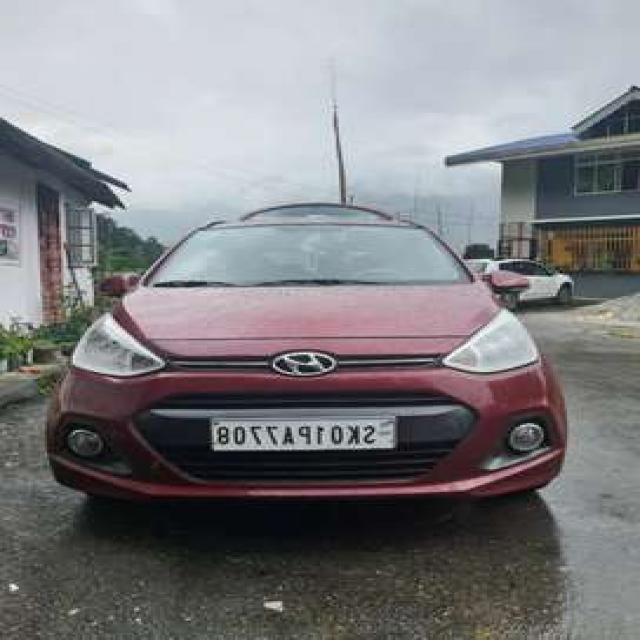license_plate: (197, 407, 411, 460)
